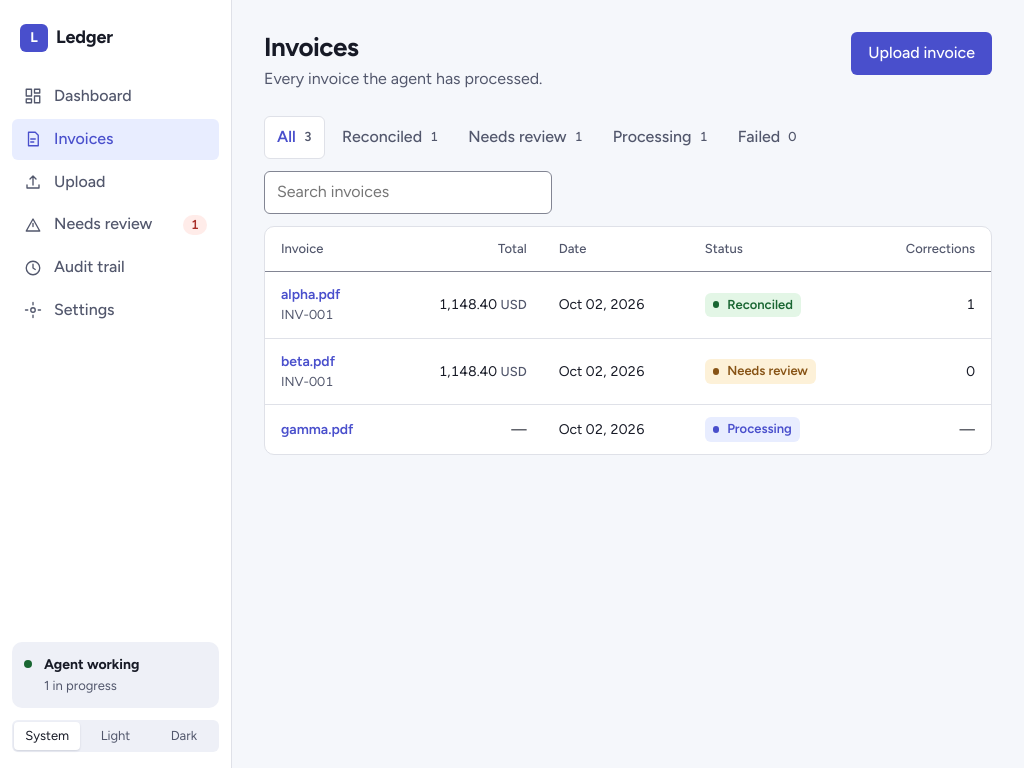
Test: InvoicesView › filters by tab and by search text
Click the tab "Needs review 1" at (525, 137), box [455,116,596,159]
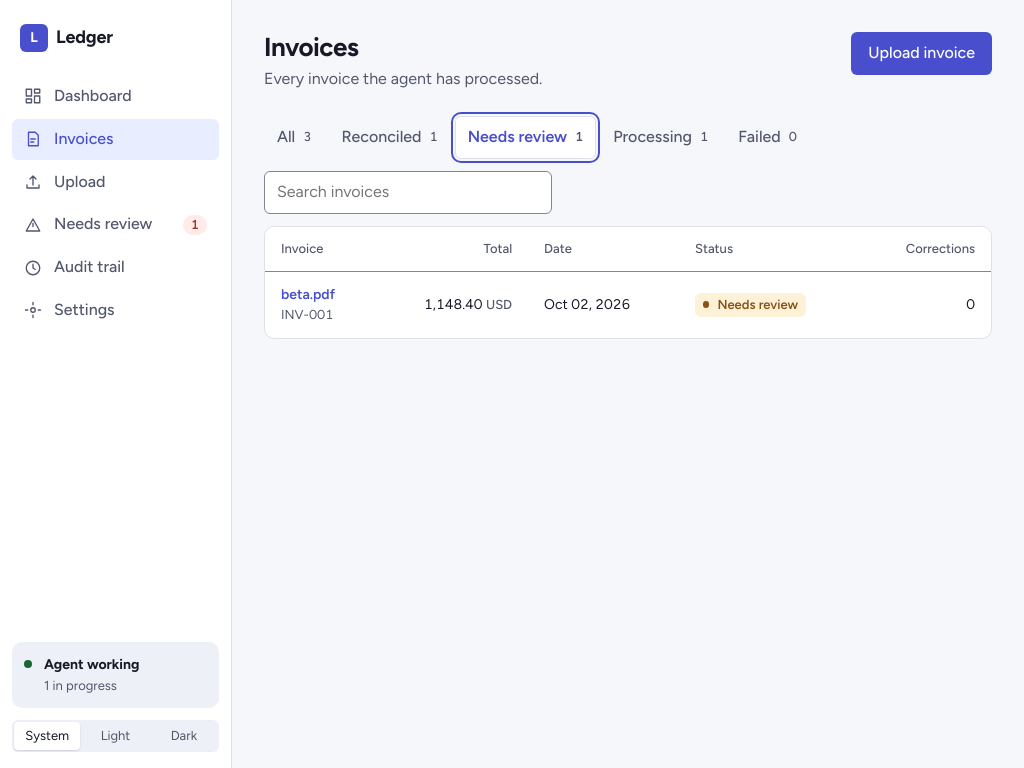
Expected: the link "beta.pdf" is shown, [281,286,335,303]
Expected: the link "alpha.pdf" is gone
Click the tab "All 3" at (294, 137), box [264,116,324,159]
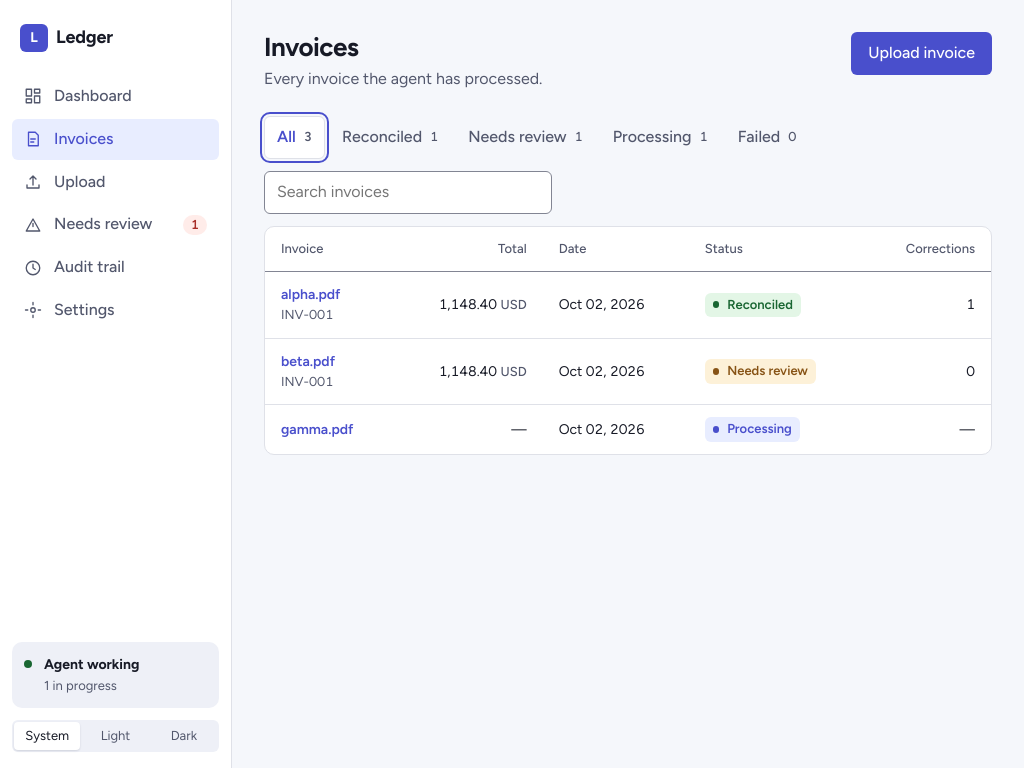
Type "alp" into the search field labelled "Search invoices" at (408, 192), box [264,171,552,214]
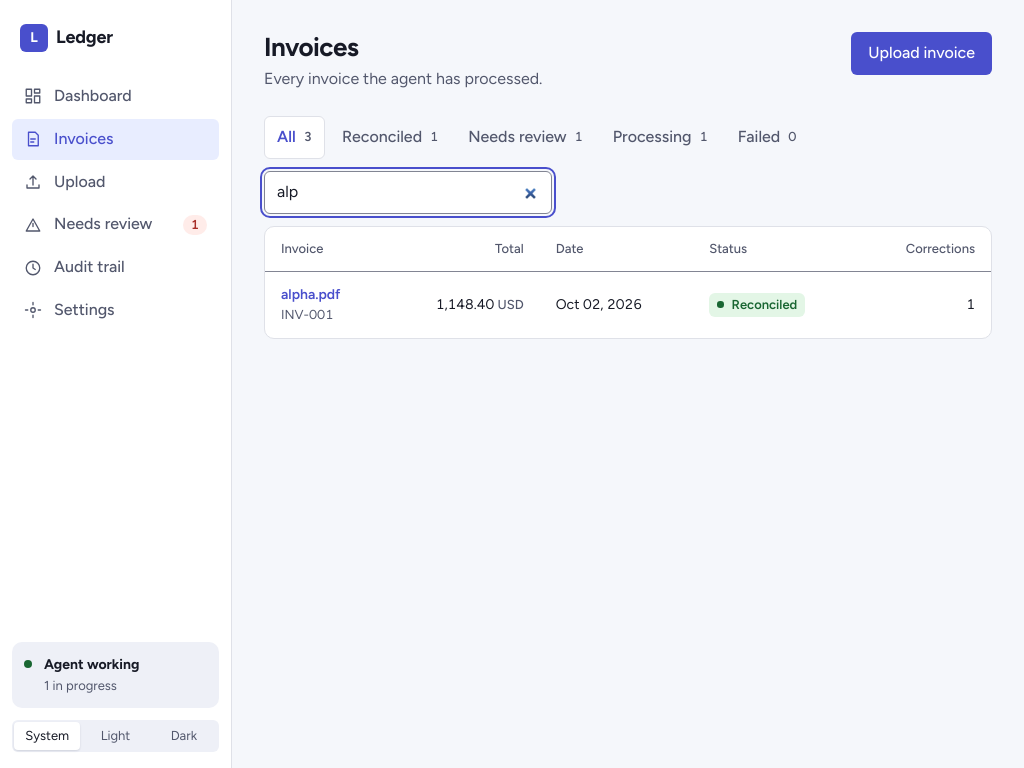
Expected: the number of rows is 2, [265,227,991,271]; [265,271,991,338]
